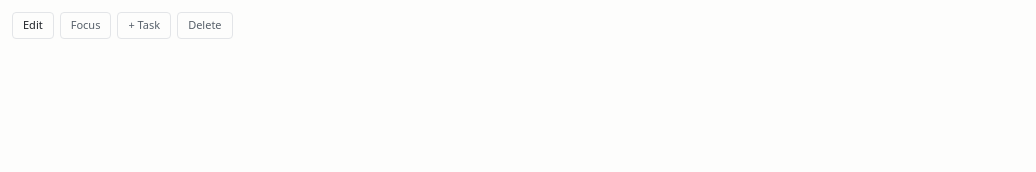
Test: IssueActions revisions › deletes against the revision on screen, and shows td's conflict message
Click the button "Delete". click: coordinates (205, 25)
box: [177,12,233,38]
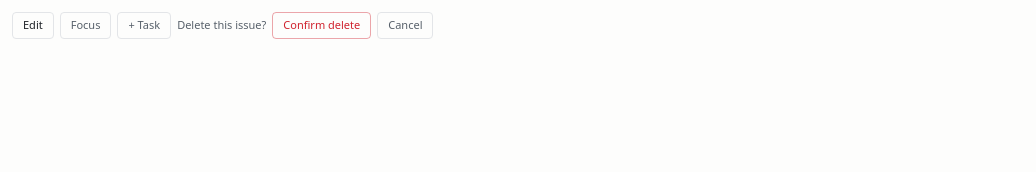
Click the button "Confirm delete". click: coordinates (322, 25)
box: [272,12,371,38]
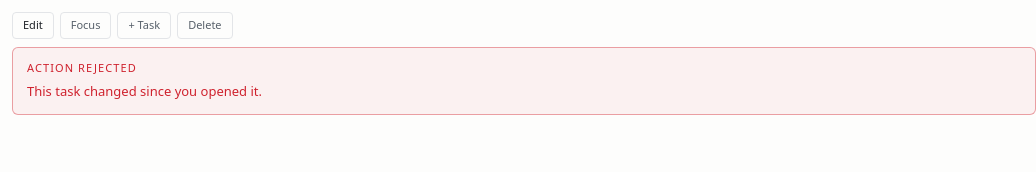
Result: the text "This task changed since you opened it." is shown at [27,82,262,100]
